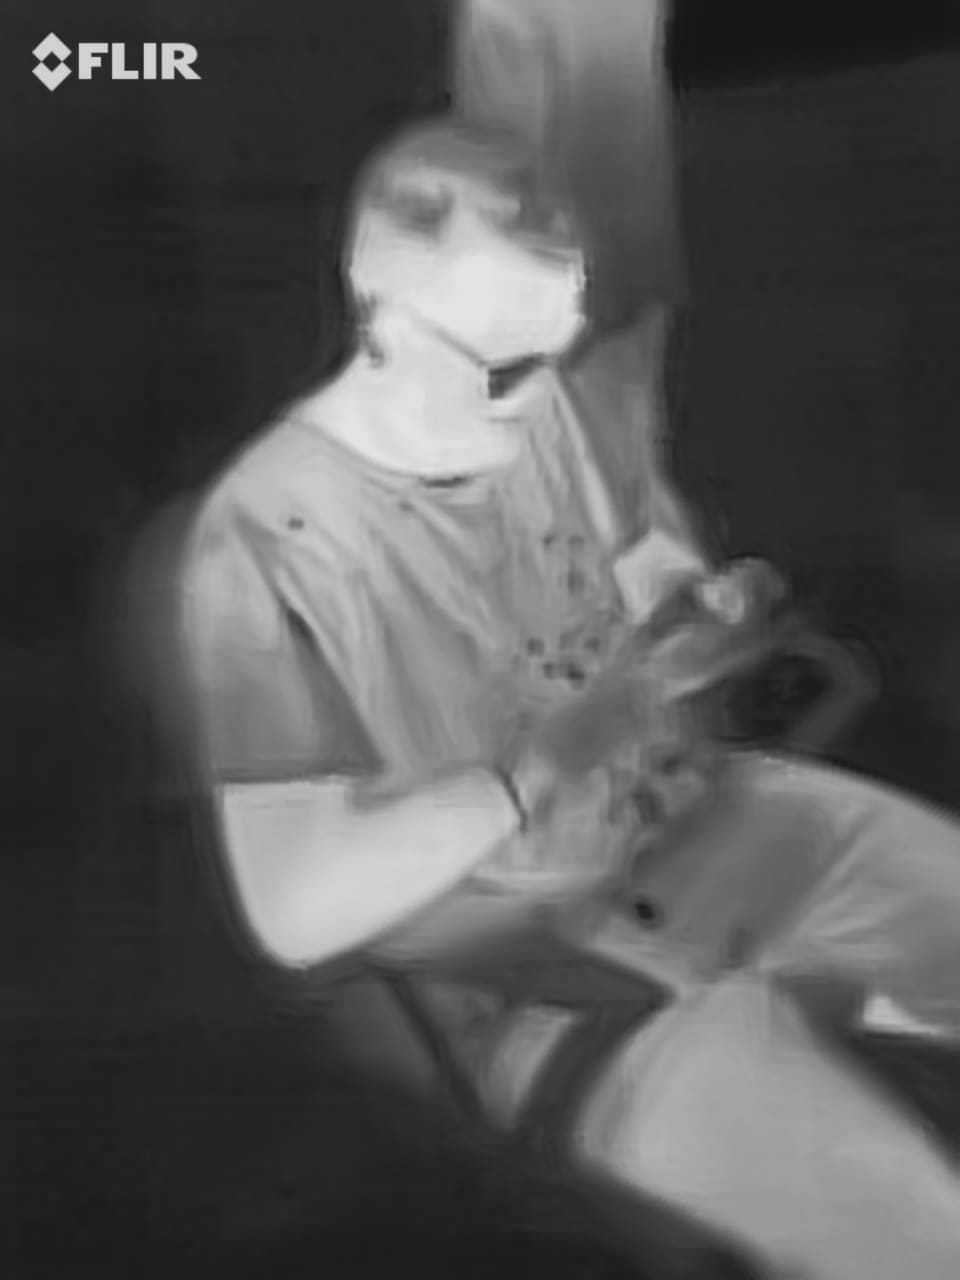head: (340, 126, 596, 483)
